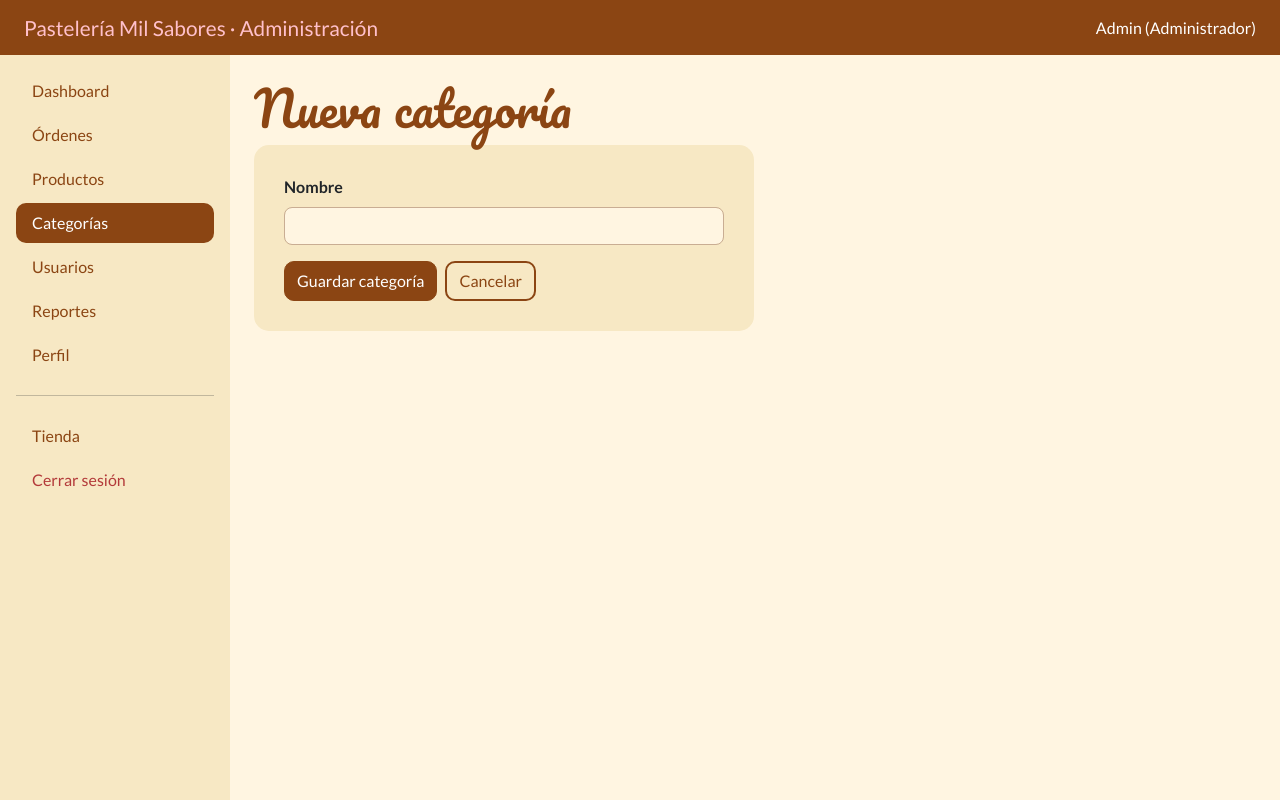
Test: Admin: categorías › rechaza una categoría repetida
In the field labelled "Nombre": (504, 226) x1=284 y1=207 x2=724 y2=245, type "Tortas Cuadradas"
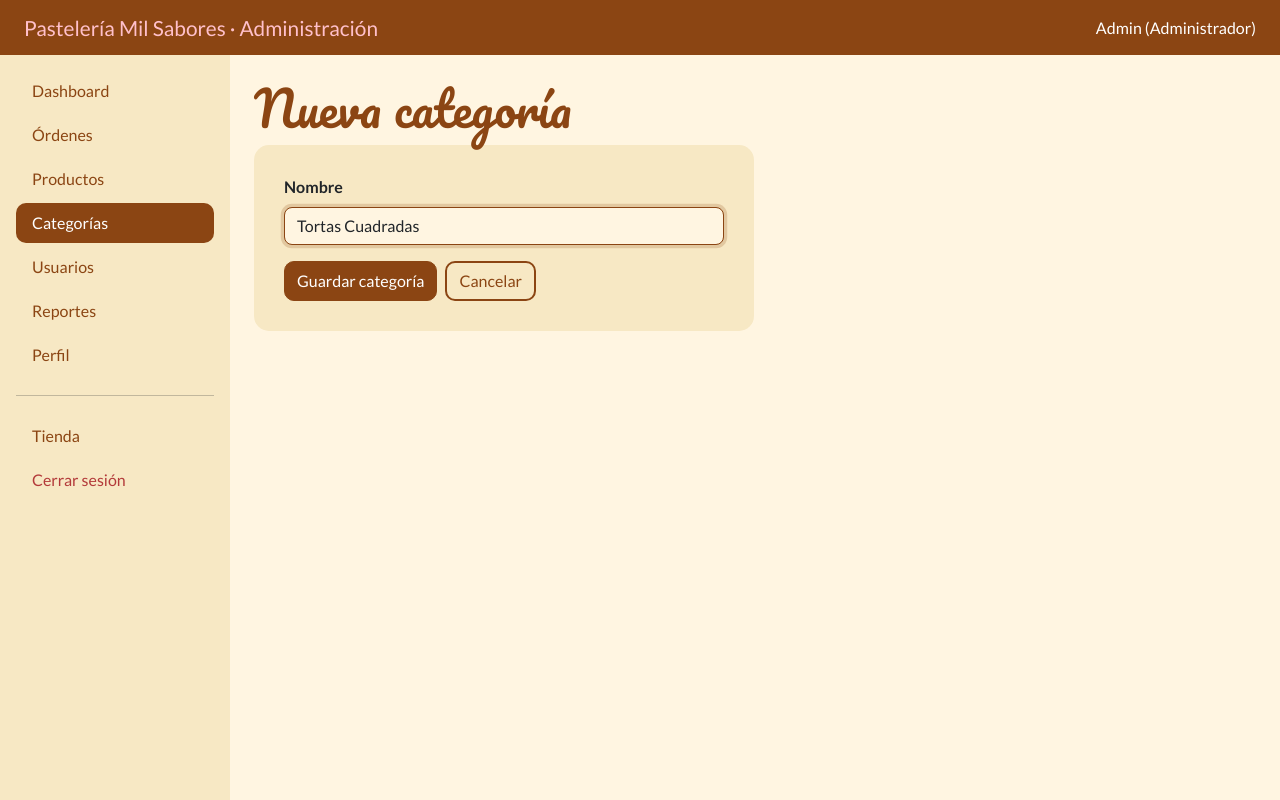
Click the button "Guardar categoría": (361, 281) x1=284 y1=261 x2=438 y2=301
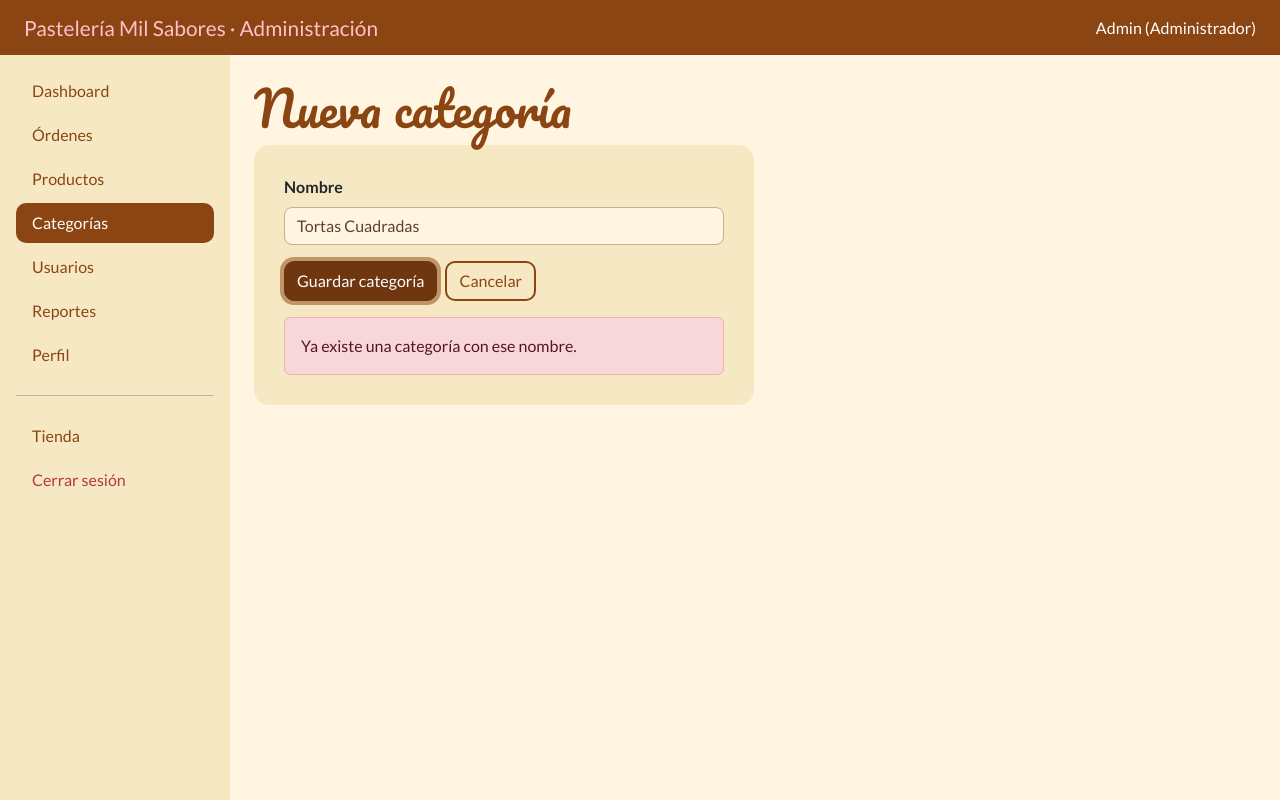
Expected: the message reads "Ya existe una categoría con ese nombre.", x1=301 y1=336 x2=577 y2=355
